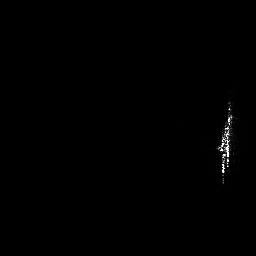ship: (216, 99, 233, 185)
